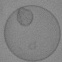small: (17, 9, 33, 26), (29, 42, 36, 50)
